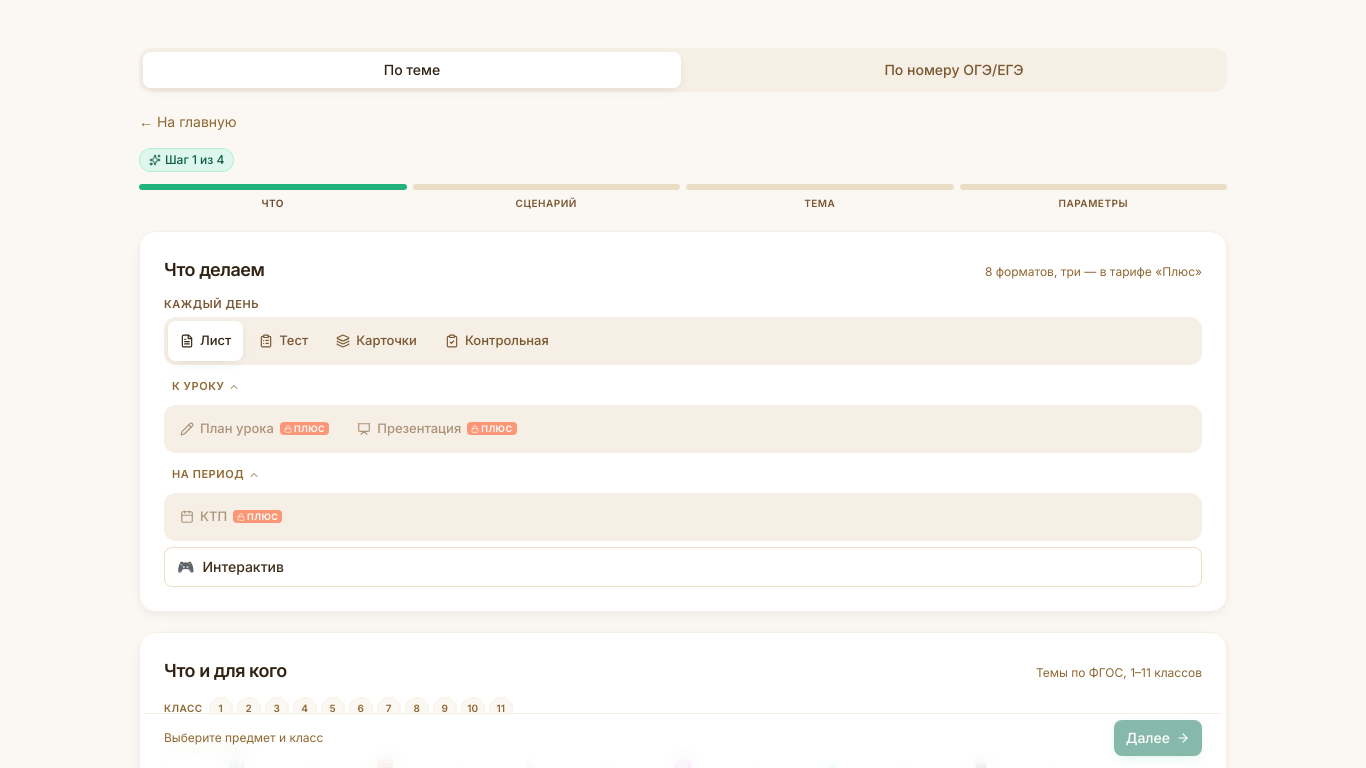
Test: шаг 1 · что можно сделать › форматы «К уроку» достижимы: план урока, презентация, КТП
The image size is (1366, 768).
Expected: the heading "Что делаем" is shown, [164,256,264,284]
Заголовок остался кнопкой: клик по нему работает и в обе стороны.
Click the button "К уроку": (206, 386) [164,372,248,400]
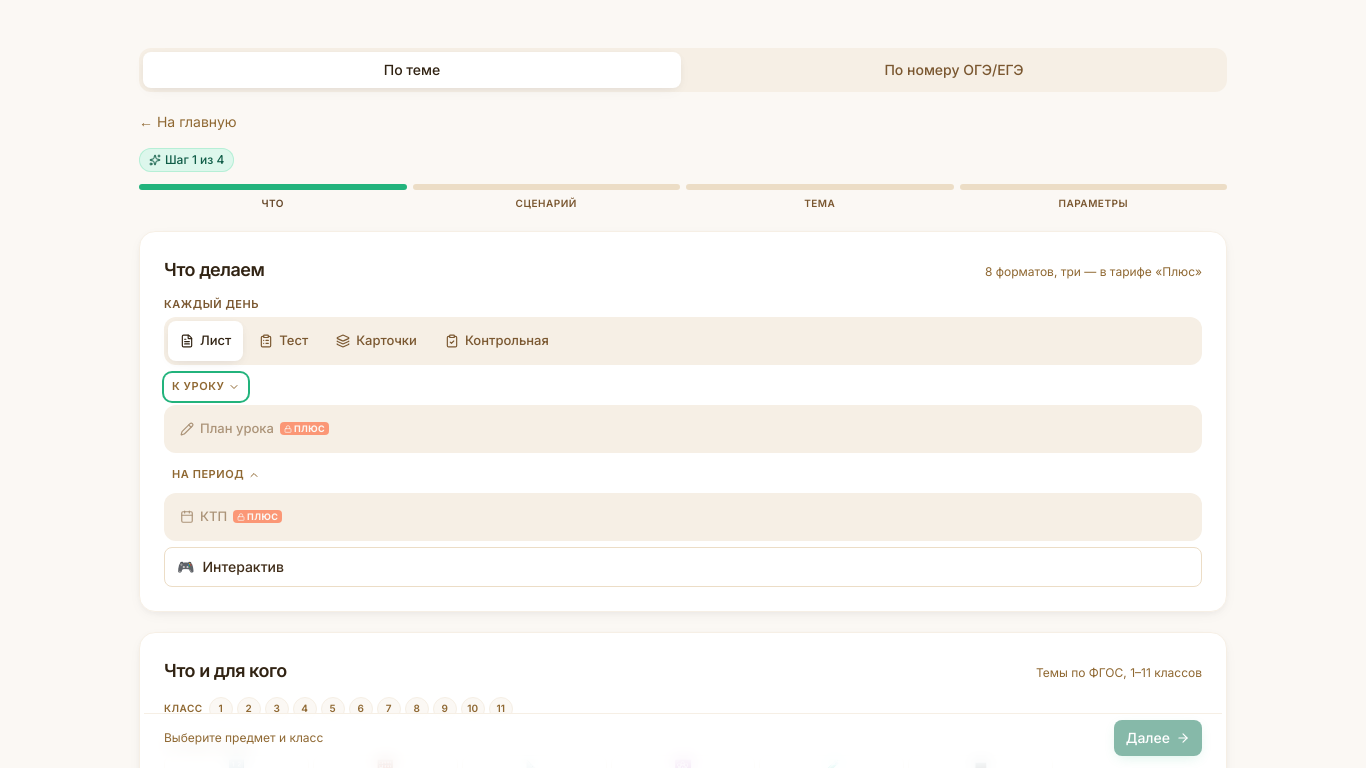
Click the button "К уроку": (206, 386) [164,372,248,400]
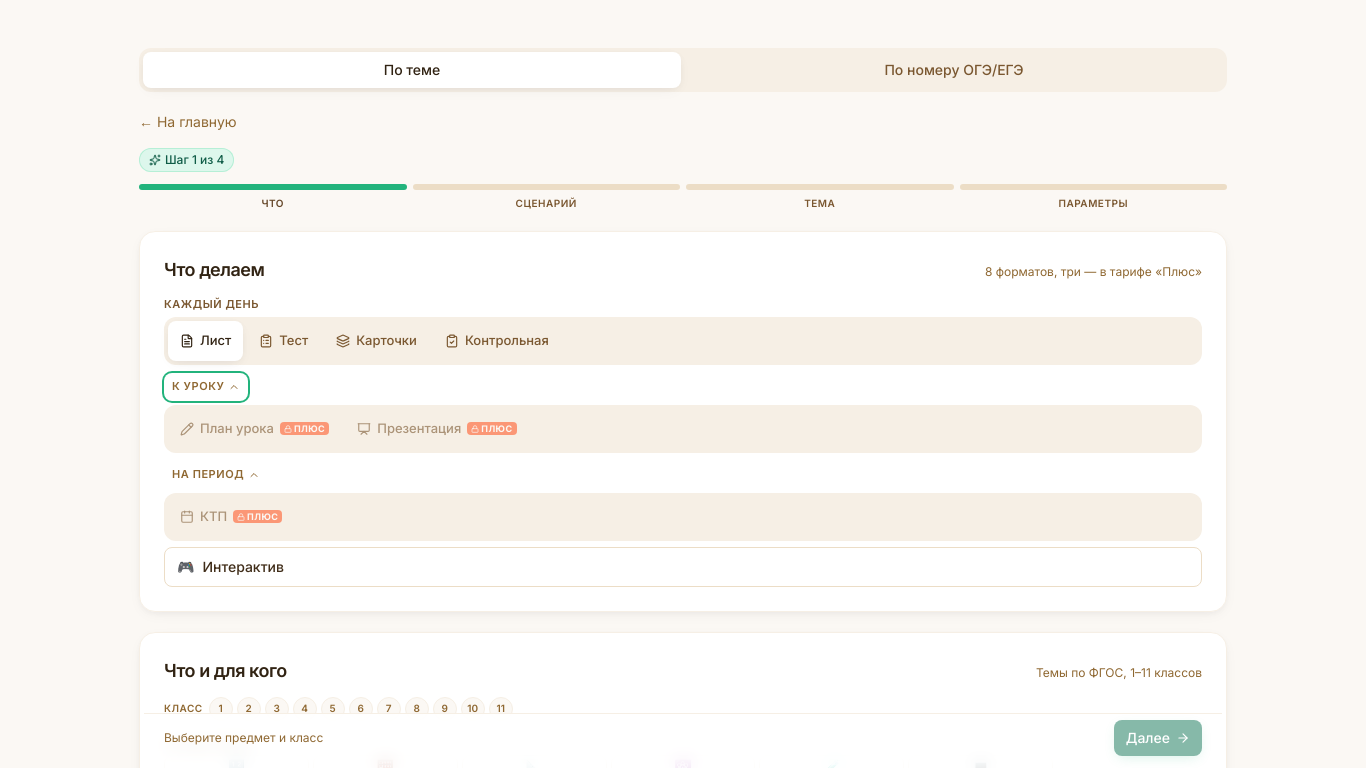
Expected: the radio button labelled "План урока Плюс" is shown, [168,408,341,448]
Expected: the radio button labelled "Презентация Плюс" is shown, [345,408,528,448]
